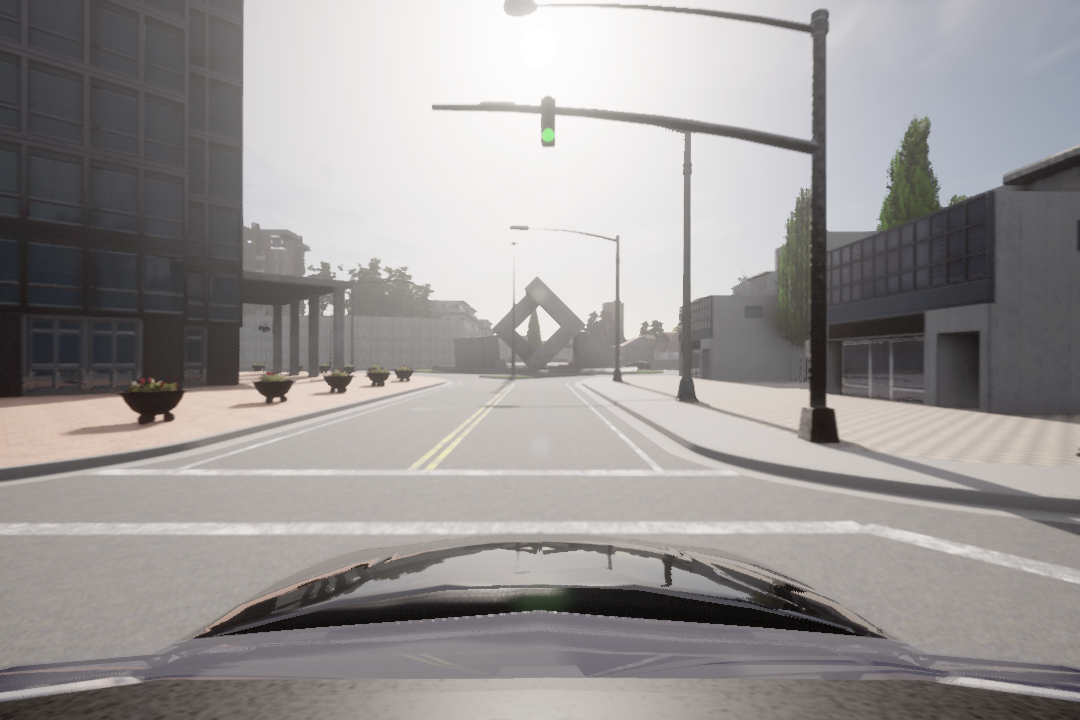TrafficLight: (535, 92, 554, 150)
